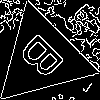B: (17, 32, 73, 88)
